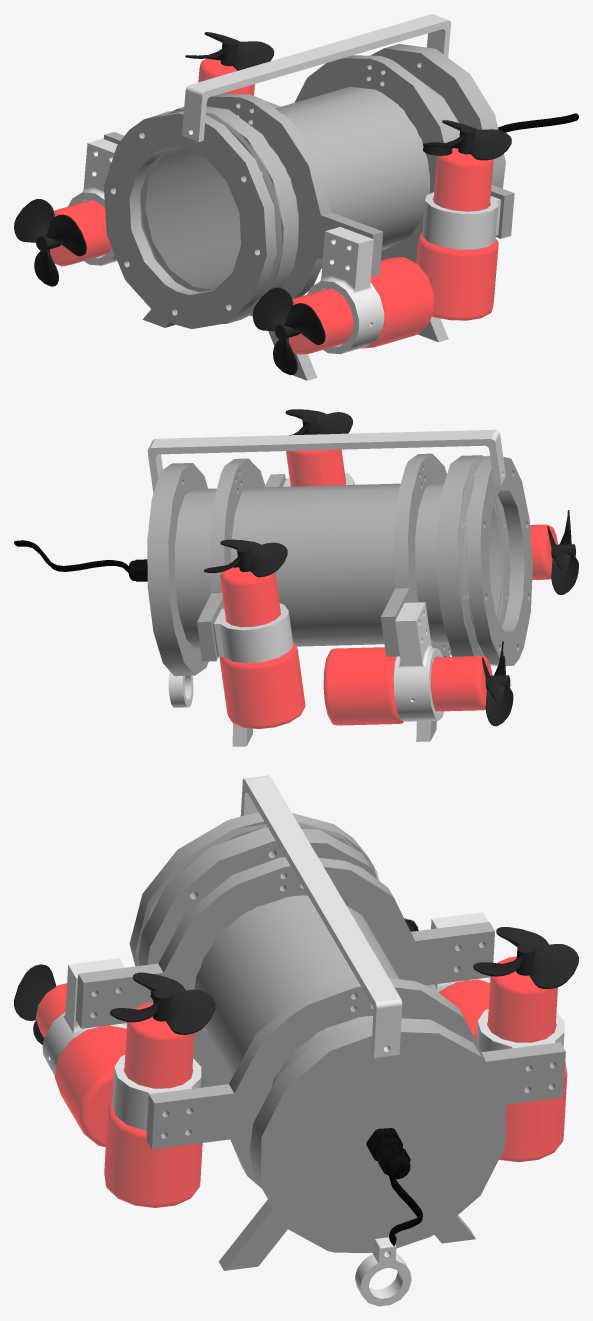
Rendered from Miniglb.glb.
The picture shows the model from 3 angles, top to bottom: view 1: azimuth 30°, elevation 25°; view 2: azimuth 150°, elevation 25°; view 3: azimuth 270°, elevation 25°; orthographic projection. The views are drawn at different scales.
Visible parts, largest first — view 1: small:grouptube 1, small:flangagroup, small:grouplens, small:groupholder.001, small:groupMOTOR bilgepump.003, small:groupholder, small:groupMOTOR bilgepump.002, small:grouphand rov, small:groupfixed motor horizntal, small:groupprop.ipt, small:groupprop.ipt.003, small:groupfixed motor vertical.001 (+6 smaller); view 2: small:grouptube 1, small:flangagroup, small:groupMOTOR bilgepump, small:groupMOTOR bilgepump.001, small:grouphand rov, small:groupholder.001, small:groupholder, small:groupfixed motor horizntal.001, small:grouplens, small:groupfixed motor vertical, small:groupMOTOR bilgepump.003, small:groupprop.ipt.002 (+6 smaller); view 3: small:grouptube 1, small:groupholder, small:groupholder.001, small:groupMOTOR bilgepump.003, small:grouphand rov, small:groupMOTOR bilgepump.001, small:groupMOTOR bilgepump.002, small:flangagroup, small:groupprop.ipt.001, small:groupprop.ipt.002, small:groupfixed motor horizntal, small:groupHolder tether (+8 smaller).
Part boxes in pixels (x1,y1,x2,y2): small:grouptube 1: [140, 44, 505, 323]; small:flangagroup: [104, 111, 276, 328]; small:grouplens: [139, 110, 282, 319]; small:groupholder.001: [103, 93, 383, 380]; small:groupMOTOR bilgepump.003: [416, 148, 498, 320]; small:groupholder: [264, 55, 514, 342]; small:groupMOTOR bilgepump.002: [288, 257, 433, 354]; small:grouphand rov: [182, 14, 450, 142]; small:groupfixed motor horizntal: [307, 227, 384, 354]; small:groupprop.ipt: [252, 287, 325, 375]; small:groupprop.ipt.003: [14, 199, 86, 286]; small:groupfixed motor vertical.001: [422, 192, 501, 249]; small:grouptube 1: [147, 455, 509, 676]; small:flangagroup: [466, 456, 532, 665]; small:groupMOTOR bilgepump: [323, 647, 492, 725]; small:groupMOTOR bilgepump.001: [219, 567, 305, 728]; small:grouphand rov: [147, 429, 505, 493]; small:groupholder.001: [380, 453, 453, 741]; small:groupholder: [197, 458, 285, 746]; small:groupfixed motor horizntal.001: [393, 602, 444, 721]; small:grouplens: [458, 455, 510, 666]; small:groupfixed motor vertical: [213, 603, 293, 663]; small:groupMOTOR bilgepump.003: [286, 449, 345, 486]; small:groupprop.ipt.002: [204, 539, 287, 577]; small:grouptube 1: [138, 827, 505, 1252]; small:groupholder: [146, 977, 565, 1270]; small:groupholder.001: [75, 857, 494, 1087]; small:groupMOTOR bilgepump.003: [104, 1002, 202, 1207]; small:grouphand rov: [240, 775, 402, 1057]; small:groupMOTOR bilgepump.001: [487, 956, 567, 1162]; small:groupMOTOR bilgepump.002: [36, 983, 126, 1146]; small:flangagroup: [129, 812, 376, 966]; small:groupprop.ipt.001: [110, 972, 215, 1034]; small:groupprop.ipt.002: [473, 927, 578, 988]; small:groupfixed motor horizntal: [42, 958, 126, 1075]; small:groupHolder tether: [355, 1237, 411, 1306].
Bounding box in the file's own units: 0.0431 × 0.024 × 0.0333.
